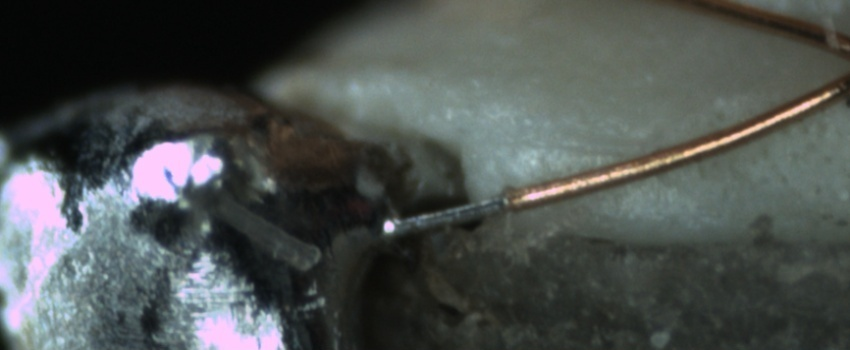CL: (831, 31, 850, 94)
DL: (503, 114, 653, 177)
TS: (386, 192, 507, 240)
